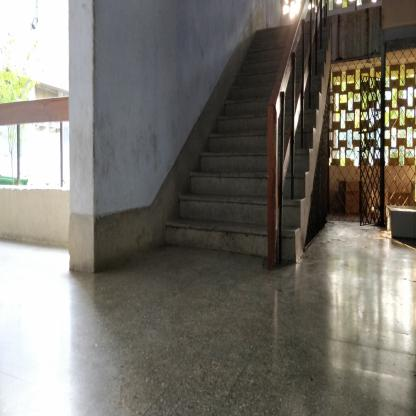stairs: (237, 94, 267, 268)
